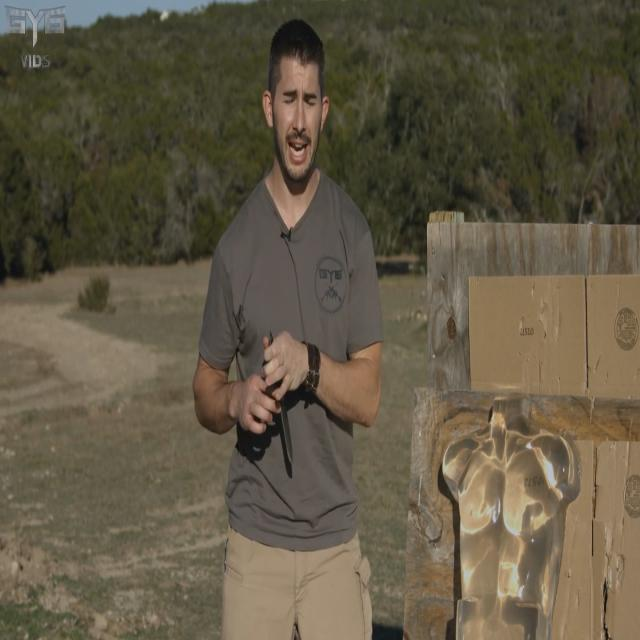knife: (276, 389, 298, 469)
